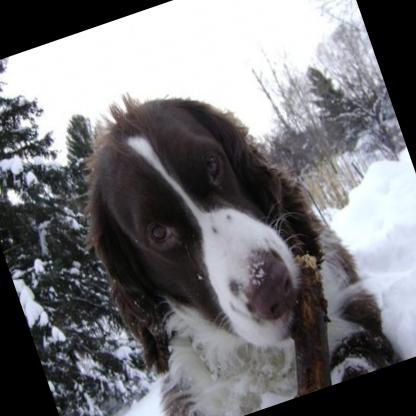English_springer: (51, 39, 399, 416)
